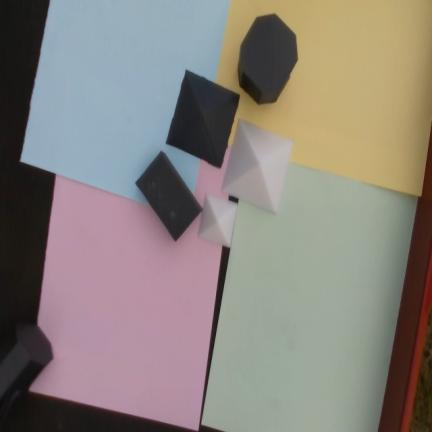Paralelepipedo: (134, 151, 203, 242)
Piramide: (166, 69, 241, 169), (220, 118, 294, 215), (198, 194, 238, 248)
Prisma_hexagonal: (238, 14, 298, 105), (0, 324, 54, 423)
